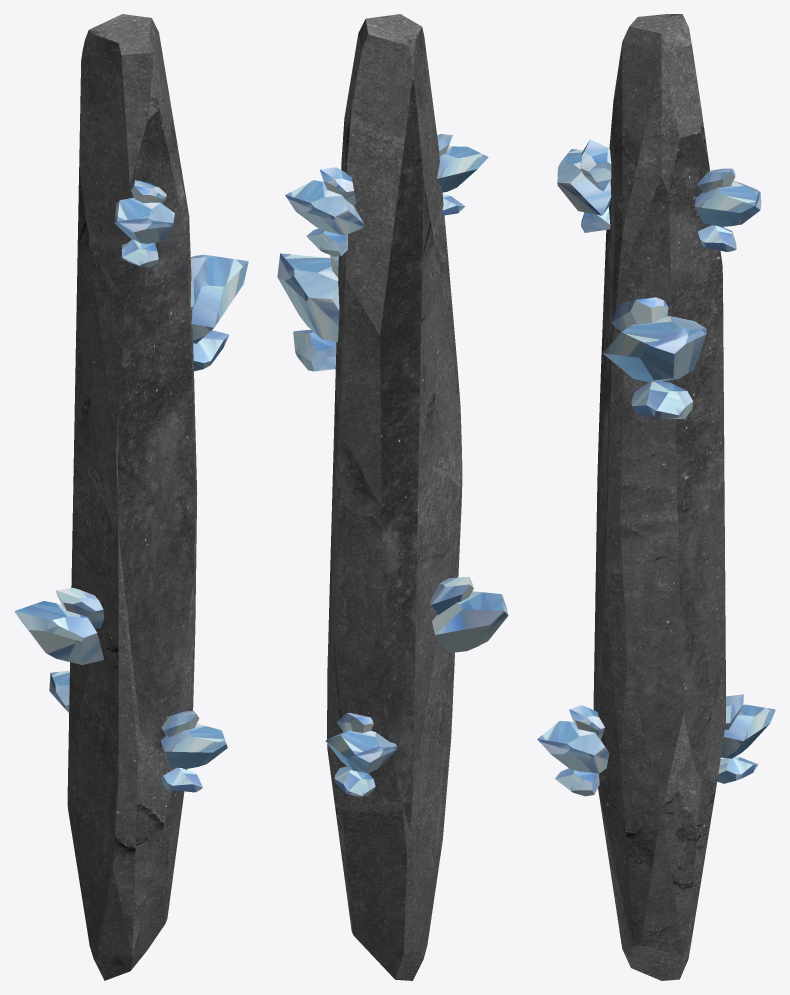
Rendered from Murs verticaux.fbx.
3 renders of one model, left to right at view 1: azimuth 30°, elevation 25°; view 2: azimuth 150°, elevation 25°; view 3: azimuth 270°, elevation 25°, orthographic. The views are drawn at different scales.
Parts seen in each view (by area): view 1: Icosphere.032, Icosphere.035, Icosphere.034, Icosphere.037, Icosphere.036, Icosphere.038; view 2: Icosphere.032, Icosphere.034, Icosphere.035, Icosphere.039, Icosphere.038, Icosphere.036; view 3: Icosphere.032, Icosphere.034, Icosphere.037, Icosphere.039, Icosphere.036, Icosphere.038.
Part boxes in pixels (<box>): Icosphere.032: <box>67,14,197,980</box>; Icosphere.035: <box>14,587,103,664</box>; Icosphere.034: <box>190,254,248,371</box>; Icosphere.037: <box>161,710,227,792</box>; Icosphere.036: <box>115,180,174,267</box>; Icosphere.038: <box>49,670,69,712</box>; Icosphere.032: <box>327,14,462,980</box>; Icosphere.034: <box>277,253,339,371</box>; Icosphere.035: <box>430,576,508,653</box>; Icosphere.039: <box>285,167,364,256</box>; Icosphere.038: <box>325,713,396,796</box>; Icosphere.036: <box>437,134,488,215</box>; Icosphere.032: <box>593,14,725,980</box>; Icosphere.034: <box>602,297,706,418</box>; Icosphere.037: <box>537,705,609,796</box>; Icosphere.039: <box>694,168,761,251</box>; Icosphere.036: <box>557,139,611,232</box>; Icosphere.038: <box>717,694,775,783</box>.
Bounding box in the file's own units: 743 × 2946 × 656.
